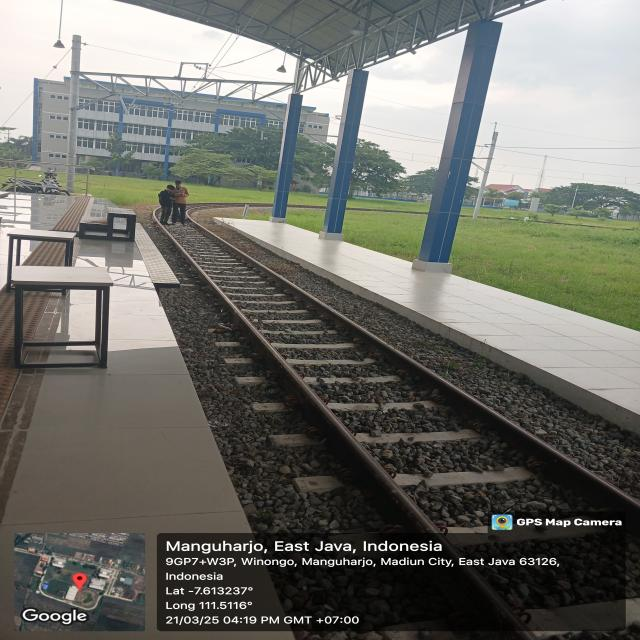rail-detection: (193, 222, 640, 537), (152, 210, 436, 532)
